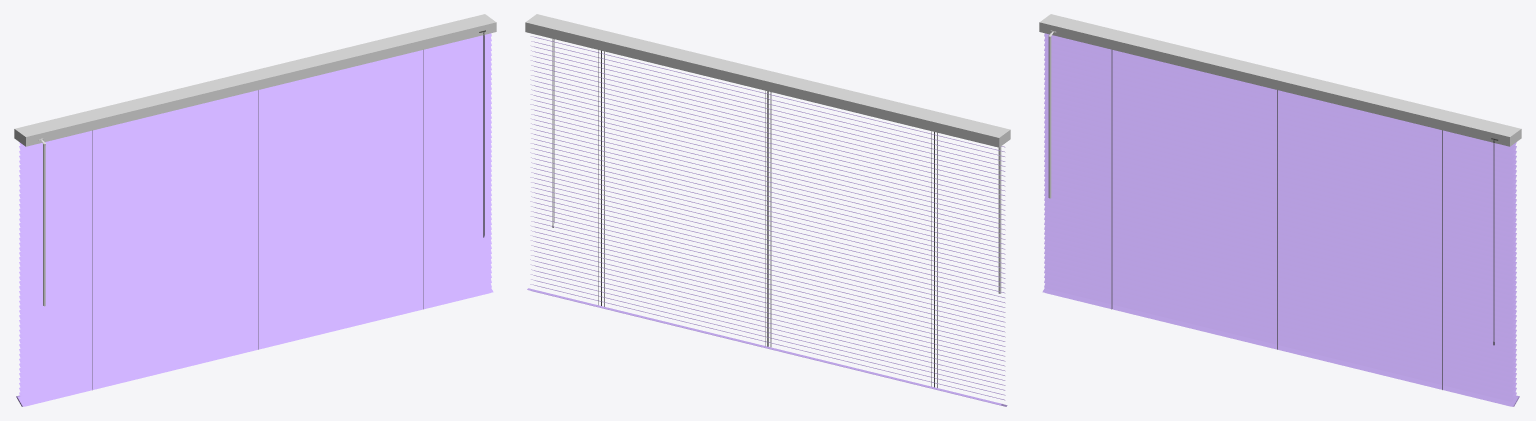
The model's file is Venetain Frame.fbx.
The picture shows the model from 3 angles, left to right: view 1: azimuth 30°, elevation 25°; view 2: azimuth 150°, elevation 25°; view 3: azimuth 330°, elevation 25°; orthographic projection.
Visible parts, largest first — view 1: Venetian_slats, VenetianFrame, Venetian_base, Venetian_stick; view 2: Venetian_slats, VenetianFrame, Venetian_base, Venetian_stick, String.C, Venetian_updown, String.f.C; view 3: Venetian_slats, VenetianFrame, Venetian_base, Venetian_stick, String.f.R.
Part boxes in pixels (box(x1,y1,x2,y2)): Venetian_slats: box(19, 33, 491, 406); VenetianFrame: box(14, 14, 496, 146); Venetian_base: box(16, 288, 493, 406); Venetian_stick: box(38, 138, 45, 306); Venetian_slats: box(530, 36, 1005, 400); VenetianFrame: box(525, 14, 1010, 147); Venetian_base: box(527, 288, 1007, 406); Venetian_stick: box(998, 146, 1001, 293); String.C: box(767, 91, 768, 346); Venetian_updown: box(552, 39, 554, 227); String.f.C: box(770, 92, 771, 346); Venetian_slats: box(1044, 33, 1516, 406); VenetianFrame: box(1039, 14, 1521, 146); Venetian_base: box(1042, 288, 1519, 406); Venetian_stick: box(1048, 30, 1056, 198); String.f.R: box(1111, 50, 1112, 309).
Bounding box in the file's own units: 100 × 55.42 × 5.99.
